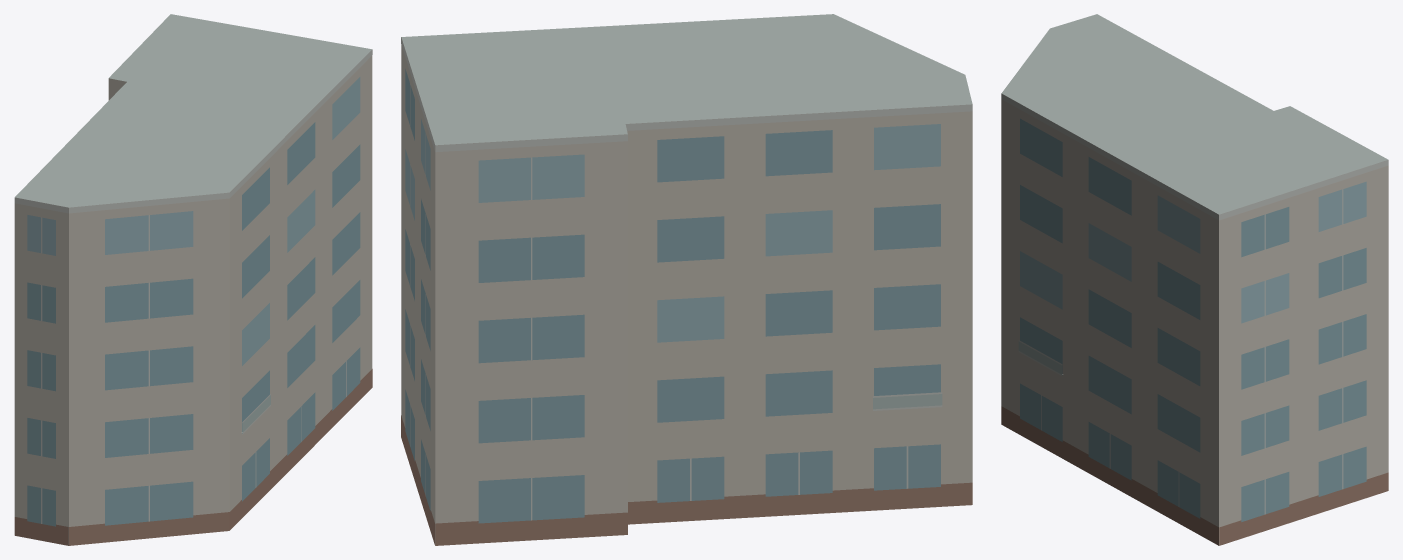
The model's file is survey-upis-33039823.glb.
3 renders of one model, left to right at view 1: azimuth 30°, elevation 25°; view 2: azimuth 150°, elevation 25°; view 3: azimuth 270°, elevation 25°, orthographic. The views are drawn at different scales.
Parts seen in each view (by area): view 1: survey-upis-33039823.tmp; view 2: survey-upis-33039823.tmp; view 3: survey-upis-33039823.tmp.
Boxes of the visible parts, x1,y1,x2,y2 form: survey-upis-33039823.tmp: [14, 14, 372, 545]; survey-upis-33039823.tmp: [401, 14, 972, 545]; survey-upis-33039823.tmp: [1001, 14, 1388, 545].
Size of the model in its own units: 18.21 by 14 by 14.84.
